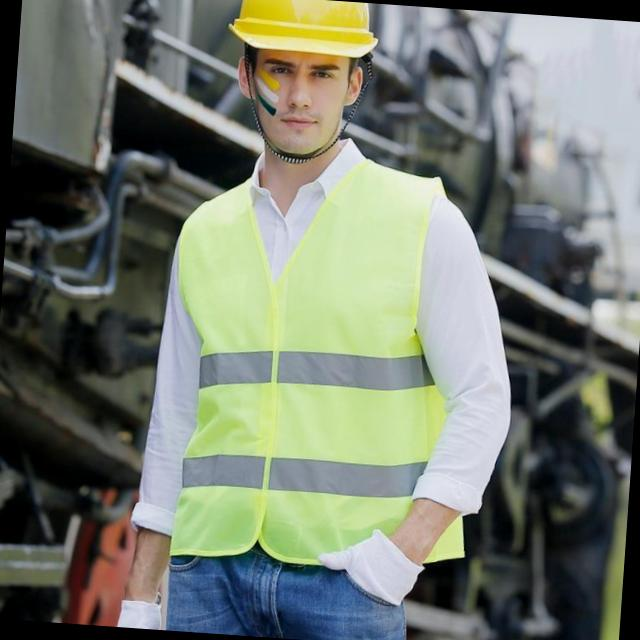helmet: (227, 0, 381, 68)
vest: (146, 144, 444, 577)
